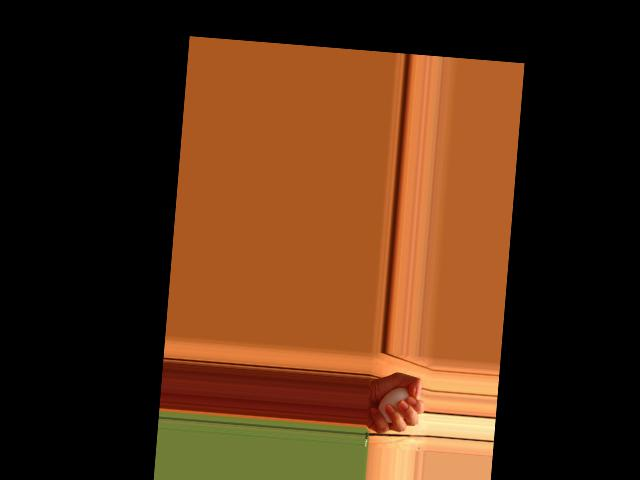egg: (376, 385, 413, 425)
